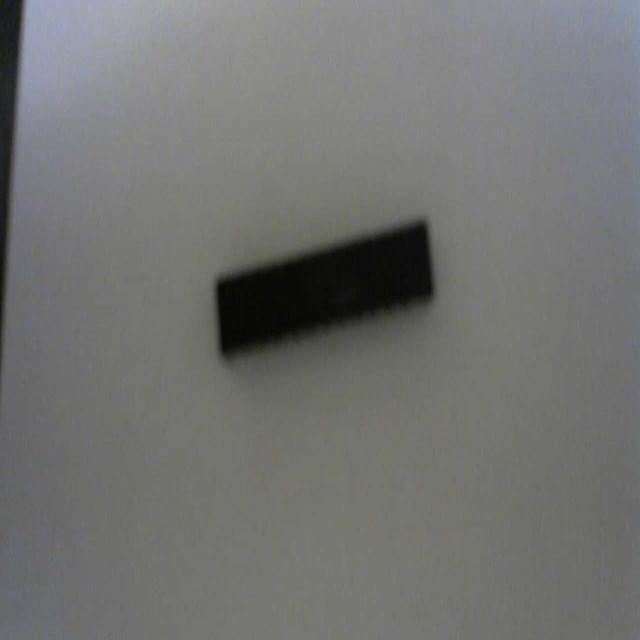atmega: (212, 213, 436, 363)
